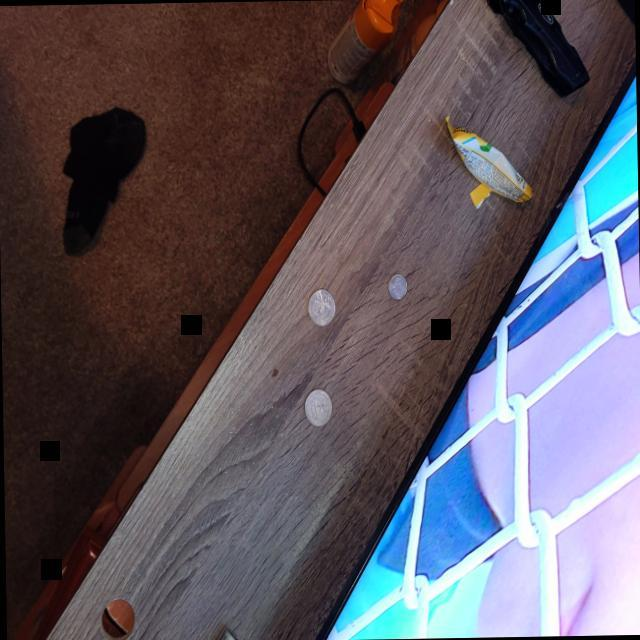Dime: (385, 272, 408, 302)
Quarter: (301, 388, 332, 429), (306, 289, 335, 327)
